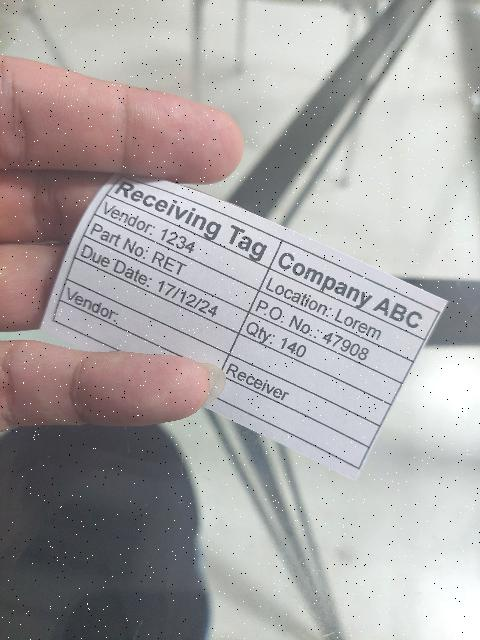PO no: (247, 289, 413, 384)
part no: (84, 214, 260, 312)
qty: (239, 311, 402, 405)
tags: (39, 178, 447, 484)
